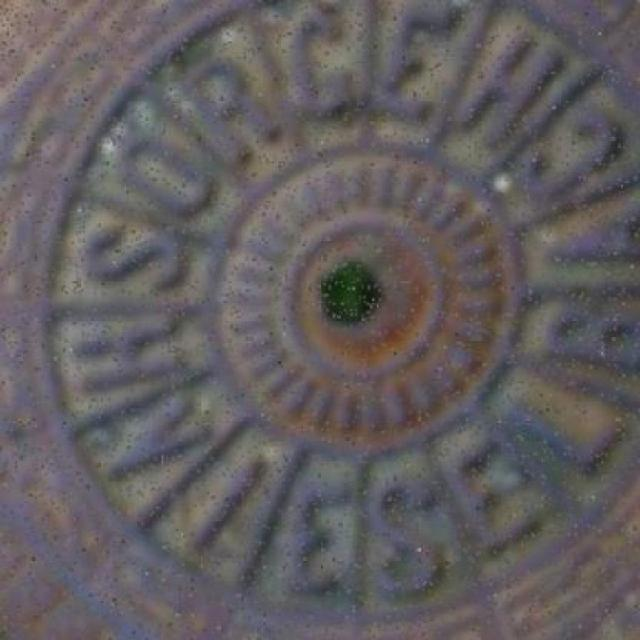Manhole: (11, 8, 638, 640)
